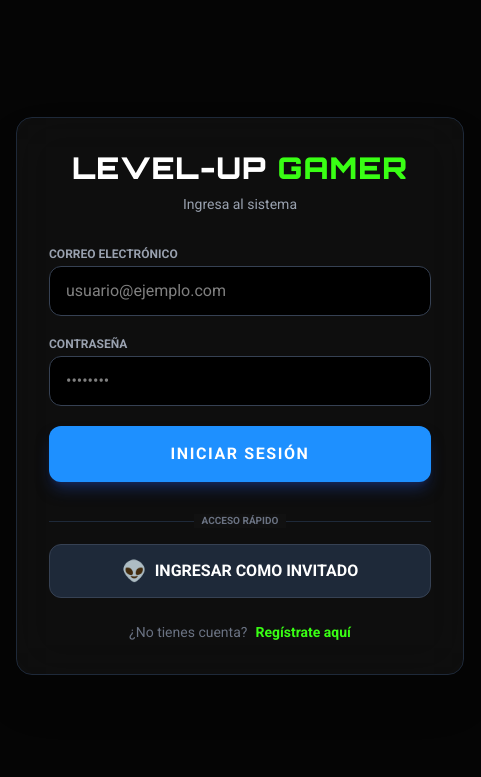
Test: LoginPage Component › debería realizar el REGISTRO exitosamente
# Ir a modo registro
Step 1. Click the button "Regístrate aquí" → [303, 632], box [255,622,351,642]
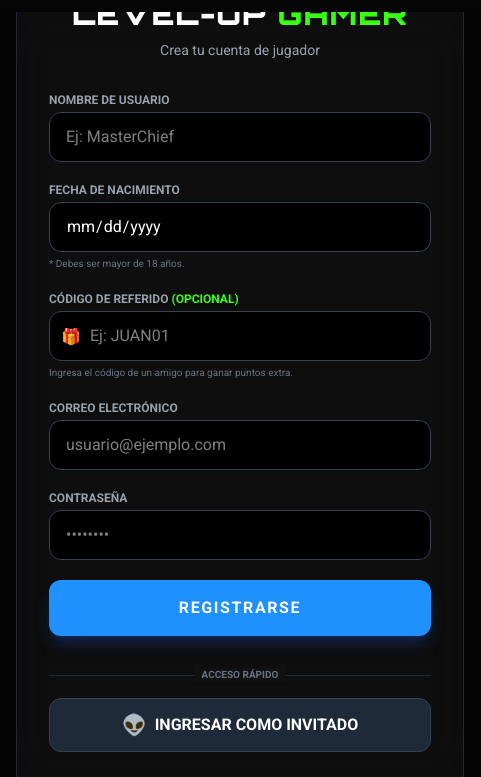
# Llenar formulario completo
Step 2. Type "GamerPro" into the field with placeholder "Ej: MasterChief" → [240, 137], box [49,112,431,162]
# Nota: Testing Library a veces no trata 'date' como textbox, usamos querySelector como fallback seguro
Step 3. Type "2000-01-01" into the date field → [240, 227], box [49,202,431,252]
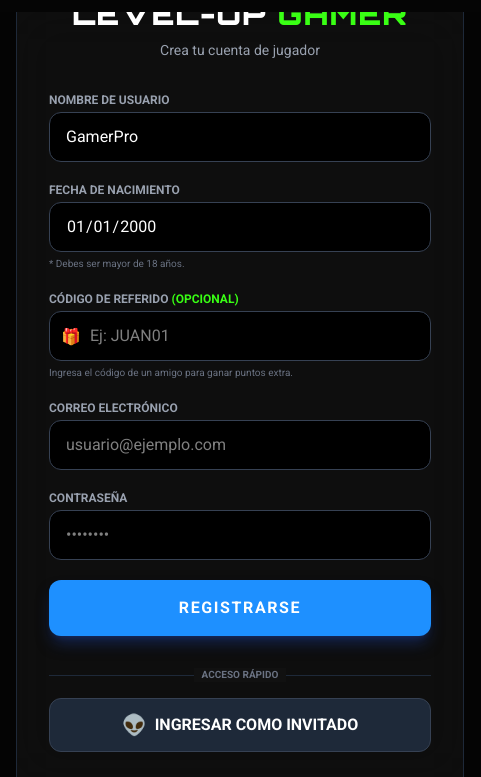
Step 4. Type "REFERIDO123" into the field with placeholder "Ej: JUAN01" → [240, 336], box [49,311,431,361]
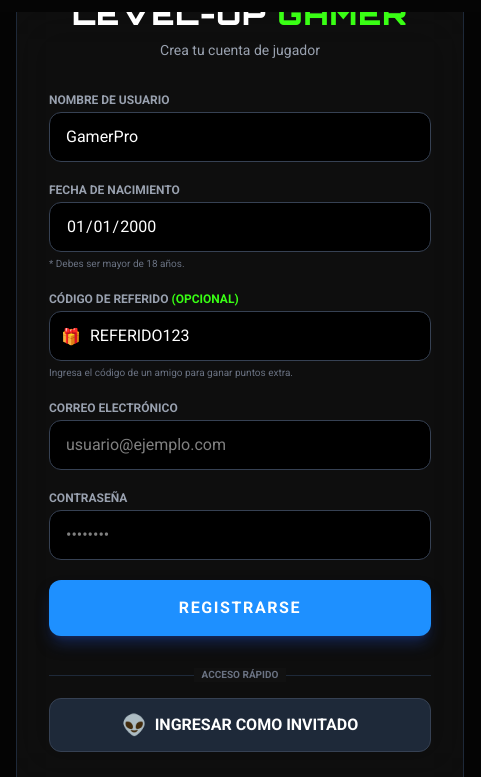
Step 5. Type "gamer@test.com" into the field with placeholder "usuario@ejemplo.com" → [240, 445], box [49,420,431,470]
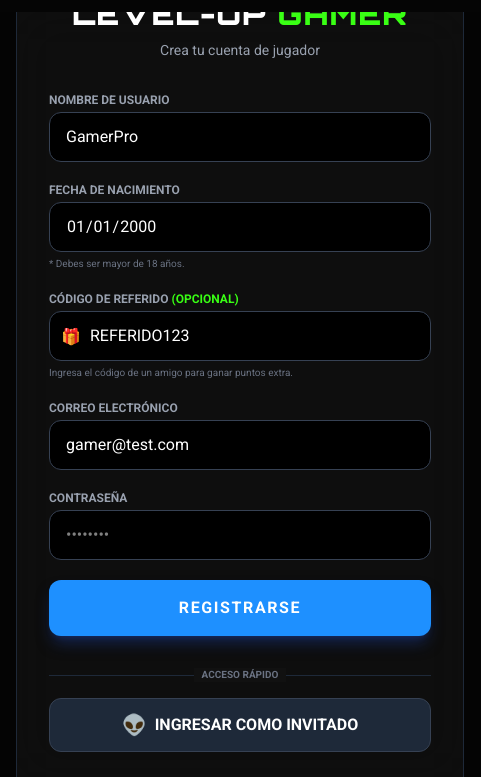
Step 6. Type "password123" into the password field with placeholder "••••••••" → [240, 535], box [49,510,431,560]
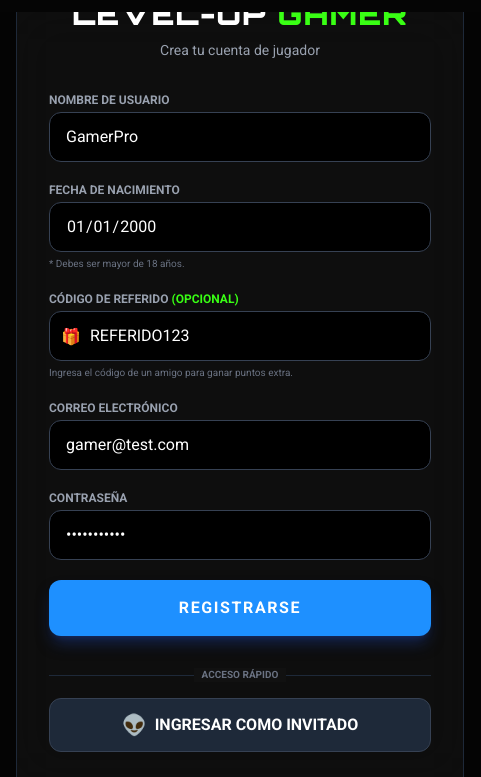
Step 7. Click the button "Registrarse" → [240, 608], box [49,580,431,636]
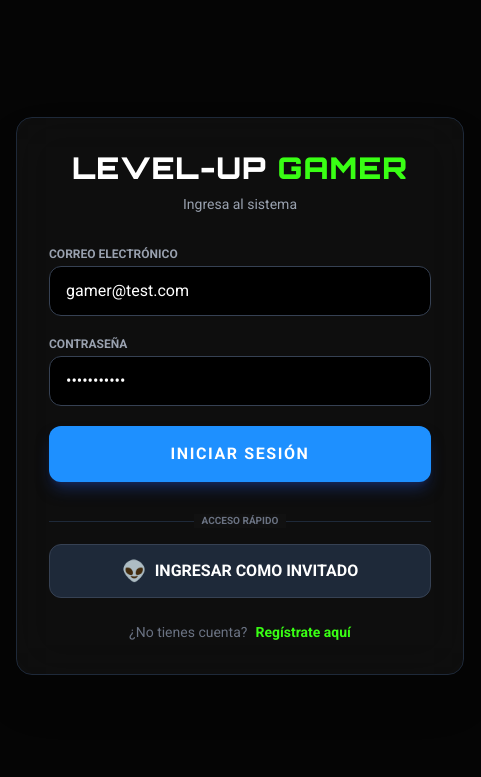
Expected: the text "Ingresa al sistema" is shown, [183,196,297,212]
